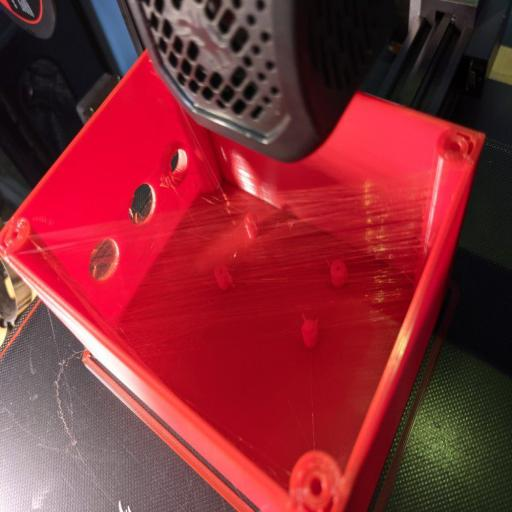stringing: (34, 166, 434, 354)
